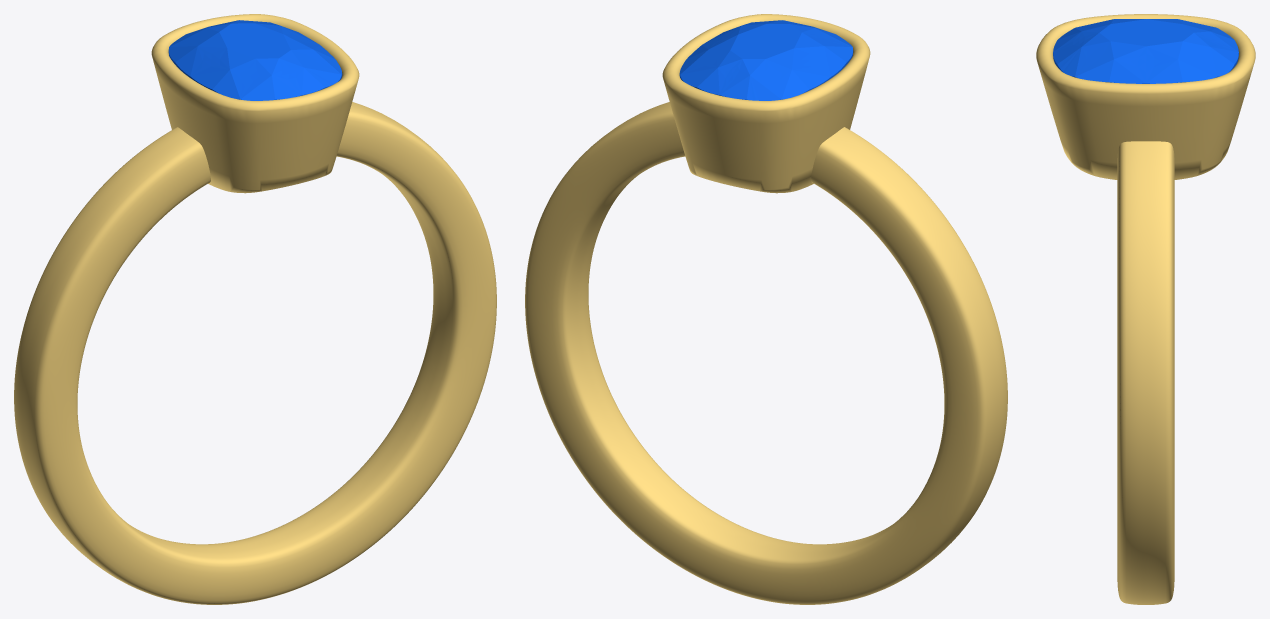
Rendered from bluesapphire-cushion-yellowgold-bezelset-straightband-nosidestones.glb.
3 renders of one model, left to right at view 1: azimuth 30°, elevation 25°; view 2: azimuth 150°, elevation 25°; view 3: azimuth 270°, elevation 25°, orthographic.
Visible parts, largest first — view 1: metal.001, stone; view 2: metal.001, stone; view 3: metal.001, stone.
Part boxes in pixels (x1,y1,x2,y2): metal.001: (14,14,496,604); stone: (168,20,342,100); metal.001: (525,14,1007,604); stone: (679,20,853,100); metal.001: (1036,14,1255,604); stone: (1053,19,1238,83).
Size of the model in its own units: 20.49 by 23.24 by 8.45.
